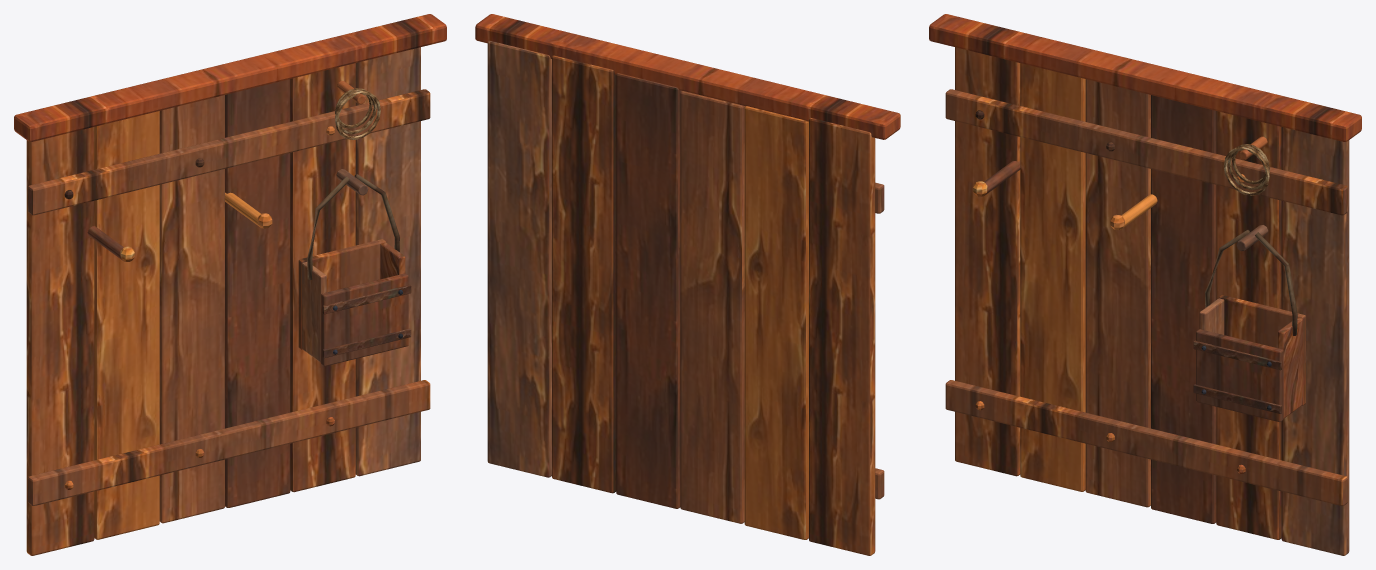
The model's file is ro_quiver_rack_empty.glb.
3 views of the same model, side by side, from view 1: azimuth 30°, elevation 25°; view 2: azimuth 150°, elevation 25°; view 3: azimuth 330°, elevation 25° (orthographic).
Parts seen in each view (by area): view 1: model; view 2: model; view 3: model.
Part boxes in pixels (<box>): model: <box>14,14,446,555</box>; model: <box>475,14,900,555</box>; model: <box>929,14,1361,555</box>.
Bounding box in the file's own units: 1.28 × 1.29 × 0.235.
Materials: 15 (15 with a texture image).
